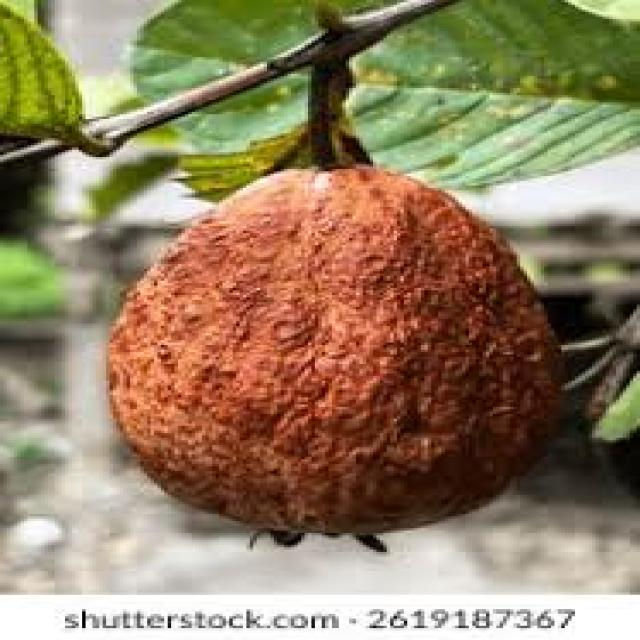Guava: (105, 171, 539, 536)
